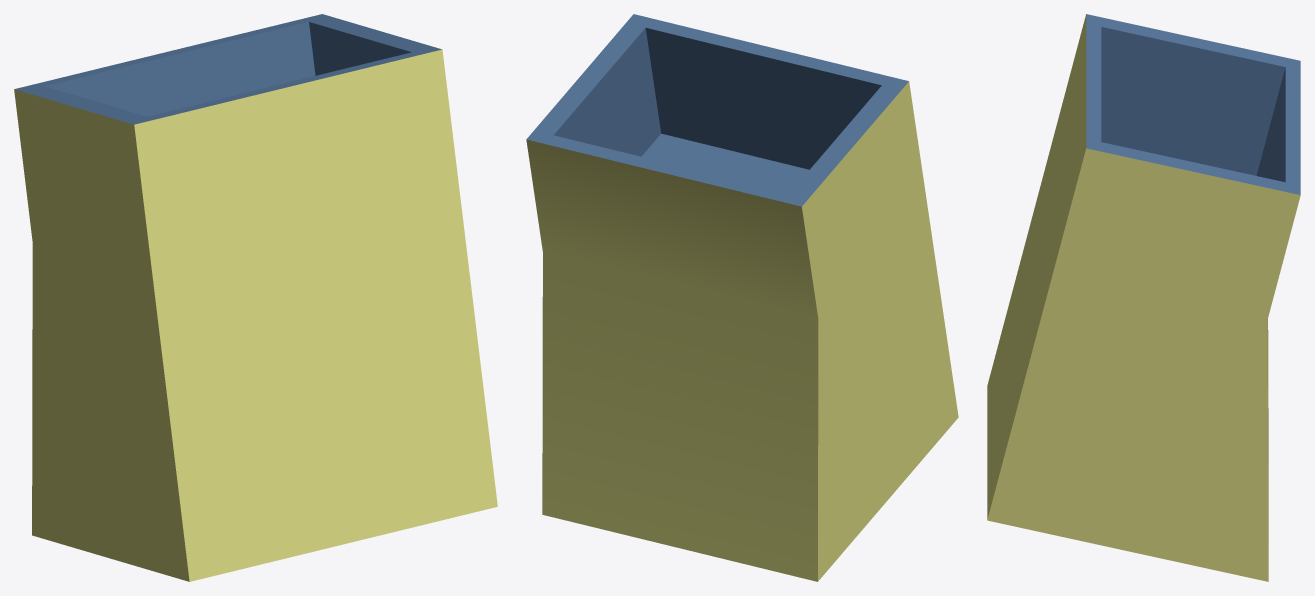
Rendered from mavi_kutu.fbx.
3 views of the same model, side by side, from view 1: azimuth 30°, elevation 25°; view 2: azimuth 150°, elevation 25°; view 3: azimuth 270°, elevation 25° (orthographic). The views are drawn at different scales.
Visible parts, largest first — view 1: pCube2; view 2: pCube2; view 3: pCube2.
Boxes of the visible parts, x1=… form: pCube2: x1=14, y1=14, x2=497, y2=581; pCube2: x1=526, y1=14, x2=958, y2=581; pCube2: x1=987, y1=14, x2=1300, y2=581.
Size of the model in its own units: 4.33 by 6.51 by 4.27.
